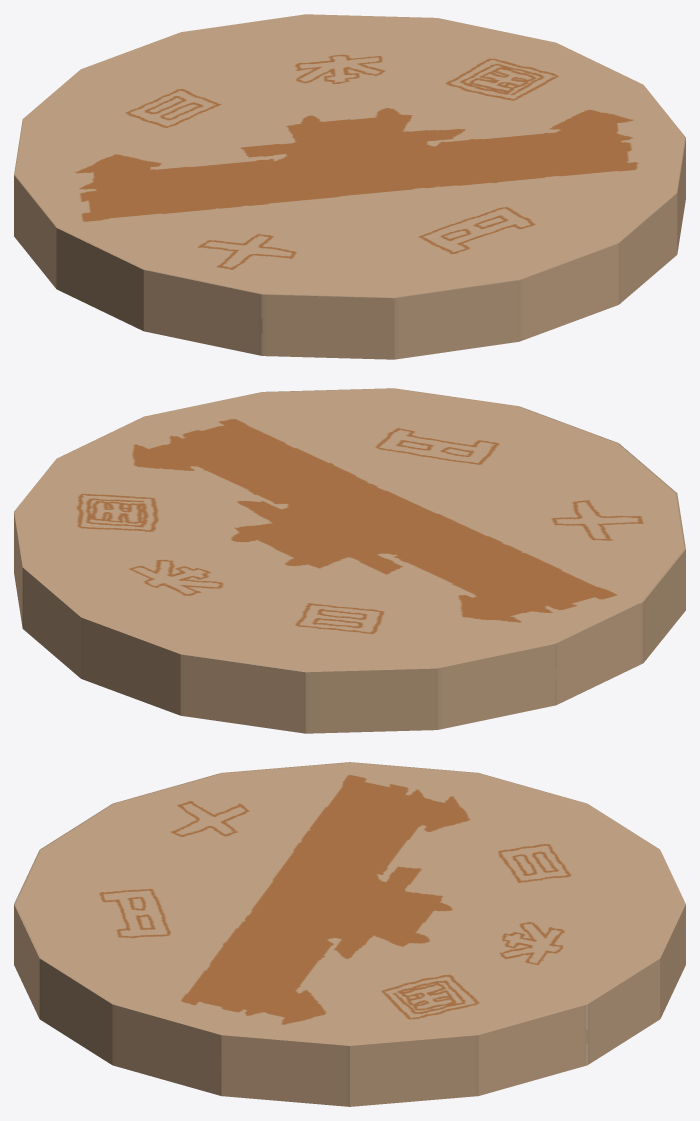
File: coin10.fbx
The picture shows the model from 3 angles, top to bottom: view 1: azimuth 30°, elevation 25°; view 2: azimuth 150°, elevation 25°; view 3: azimuth 270°, elevation 25°; orthographic projection.
Parts seen in each view (by area): view 1: 円柱; view 2: 円柱; view 3: 円柱.
Boxes of the visible parts, bbox=[...] form: 円柱: bbox=[14, 14, 685, 359]; 円柱: bbox=[14, 388, 685, 733]; 円柱: bbox=[14, 762, 685, 1106].
Size of the model in its own units: 100 by 10 by 100.
